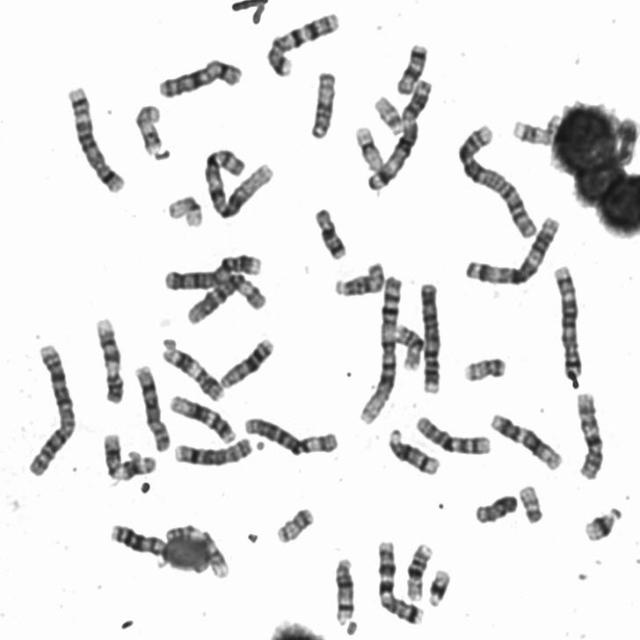A1: (357, 274, 403, 427), (203, 144, 274, 222)
A2: (455, 124, 538, 240), (25, 341, 80, 480)
A3: (366, 78, 434, 194), (463, 216, 560, 285)
B4: (164, 250, 262, 292), (420, 282, 442, 395)
B5: (66, 88, 127, 194), (551, 265, 584, 380)
C10: (572, 390, 608, 483), (416, 415, 490, 457)
C11: (162, 349, 225, 402), (102, 431, 158, 482)
C12: (489, 410, 563, 470), (168, 394, 236, 444)
C6: (183, 270, 265, 327), (243, 417, 339, 457)
C7: (264, 11, 340, 78), (376, 541, 426, 627)
C8: (136, 363, 172, 452), (173, 436, 253, 466)
C9: (163, 520, 234, 581), (93, 315, 126, 405)
D13: (220, 336, 275, 390), (108, 520, 171, 567)
D14: (388, 427, 441, 477), (333, 557, 356, 626)
D15: (308, 71, 336, 140), (335, 261, 386, 297)
E16: (404, 542, 434, 600), (392, 324, 424, 371)
E17: (511, 113, 562, 148), (132, 104, 163, 153)
E18: (313, 208, 348, 261), (395, 44, 427, 94)
F19: (163, 195, 204, 229), (354, 126, 384, 172)
F20: (275, 505, 316, 546), (463, 357, 508, 382)
G21: (577, 503, 624, 545), (427, 566, 454, 608)
G22: (374, 95, 404, 136), (516, 483, 545, 524)
X: (156, 57, 242, 101)
Y: (471, 494, 518, 526)
